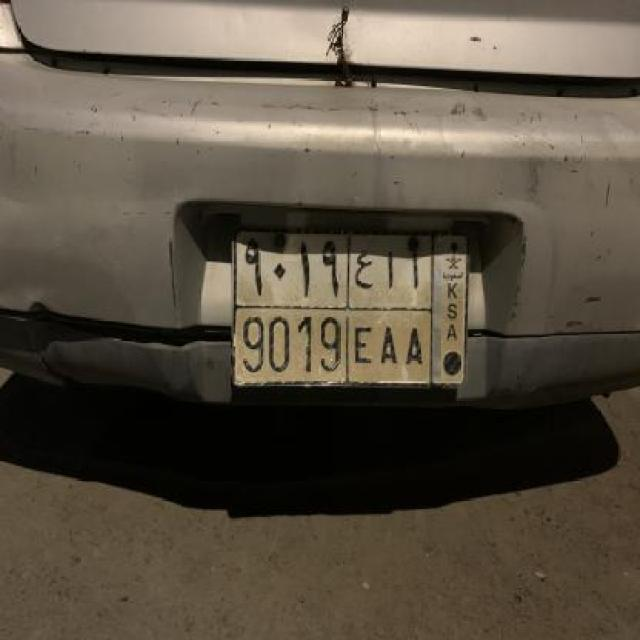license_plate: (230, 222, 473, 390)
